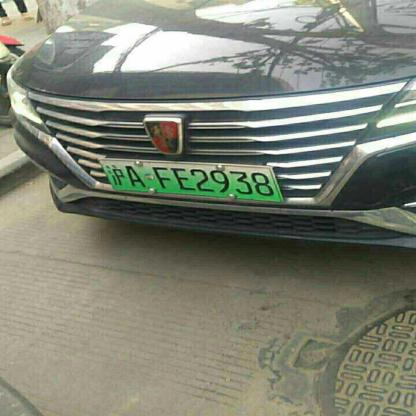lp: (96, 158, 282, 202)
